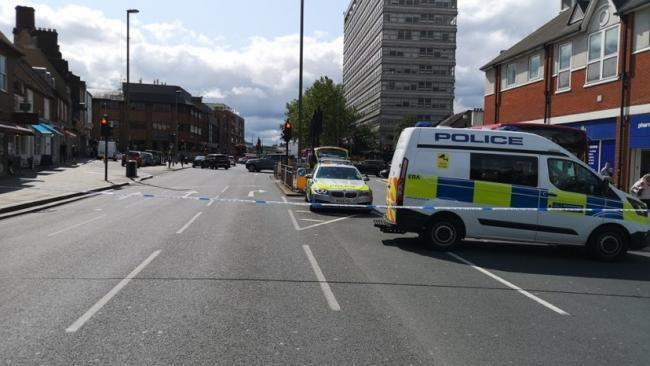car: (384, 118, 650, 259), (304, 157, 380, 213), (201, 149, 235, 172)
undergroundlamp: (252, 197, 270, 209), (138, 191, 157, 201), (196, 194, 214, 204)
